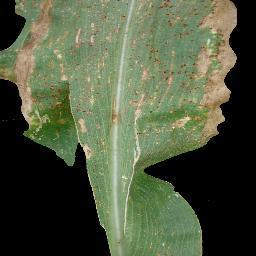Corn_Common_Rust: (0, 0, 256, 159), (119, 160, 139, 240), (146, 236, 184, 256)
